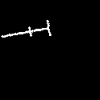double_crochet: (1, 20, 50, 36)
